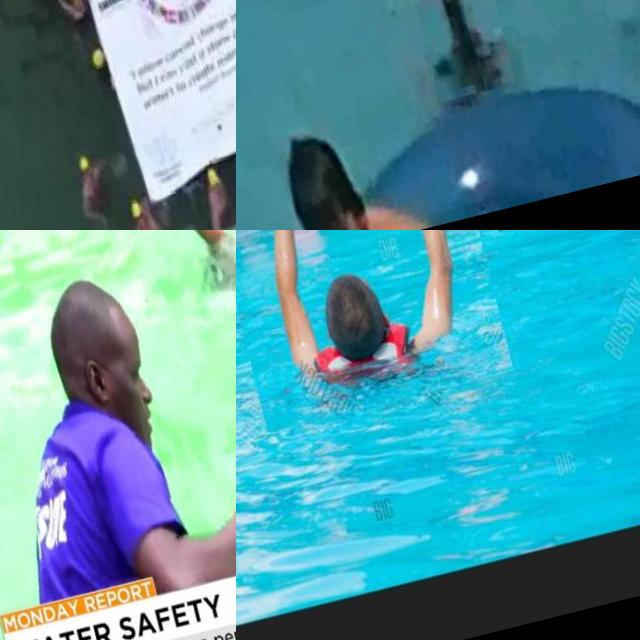drowning: (236, 230, 515, 433), (370, 0, 517, 103), (135, 230, 236, 339), (45, 0, 72, 16)
out of water: (0, 230, 236, 613)
swimming: (64, 140, 120, 230), (196, 162, 236, 230), (115, 195, 171, 230), (49, 0, 88, 29)
